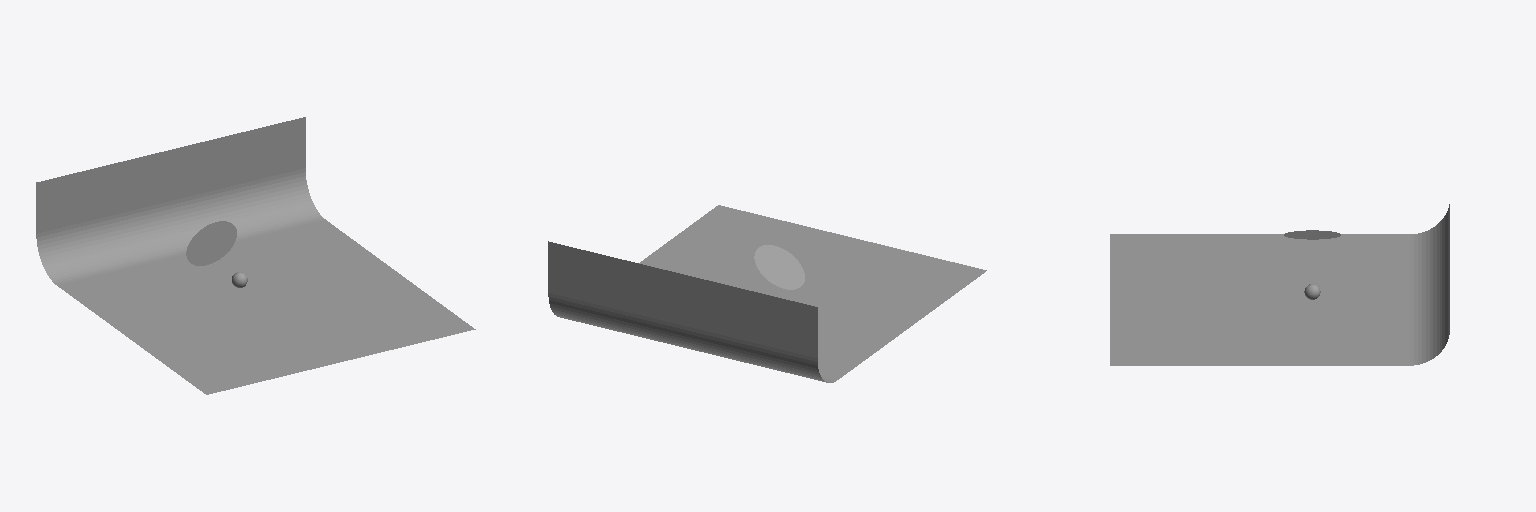
Rendered from material_visualizer.obj.
The picture shows the model from 3 angles: view 1: azimuth 30°, elevation 25°; view 2: azimuth 150°, elevation 25°; view 3: azimuth 270°, elevation 25°; orthographic projection.
Parts seen in each view (by area): view 1: Plane, Circle; view 2: Plane, Circle; view 3: Plane.
Part boxes in pixels (x1,y1,x2,y2): Plane: (36,117,475,394); Circle: (186,221,236,265); Plane: (548,205,986,382); Circle: (754,245,804,289); Plane: (1110,204,1449,365).
Size of the model in its own units: 38.4 by 12 by 42.04.